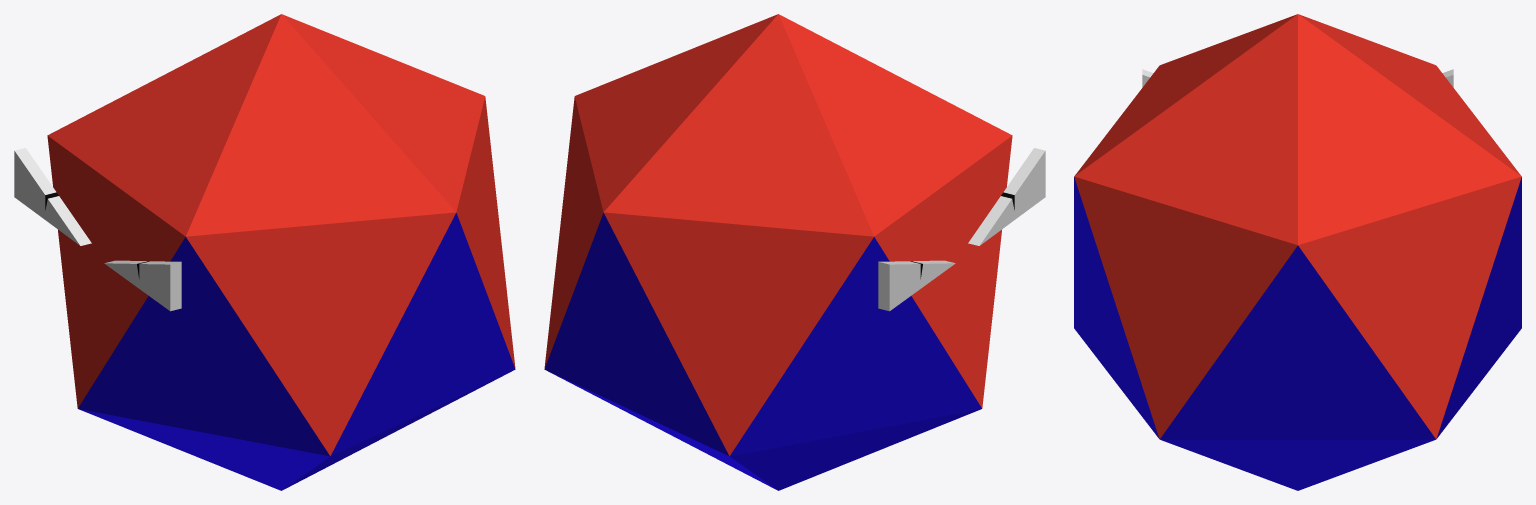
The model's file is 100-shockdie.fbx.
3 renders of one model, left to right at view 1: azimuth 30°, elevation 25°; view 2: azimuth 150°, elevation 25°; view 3: azimuth 270°, elevation 25°, orthographic.
Visible parts, largest first — view 1: Body, Eyes; view 2: Body, Eyes; view 3: Body.
Part boxes in pixels (x1,y1,x2,y2): Body: [47, 14, 515, 490]; Eyes: [14, 148, 181, 311]; Body: [544, 14, 1012, 490]; Eyes: [878, 148, 1045, 311]; Body: [1074, 14, 1521, 490].
Size of the model in its own units: 179 by 200 by 170.
